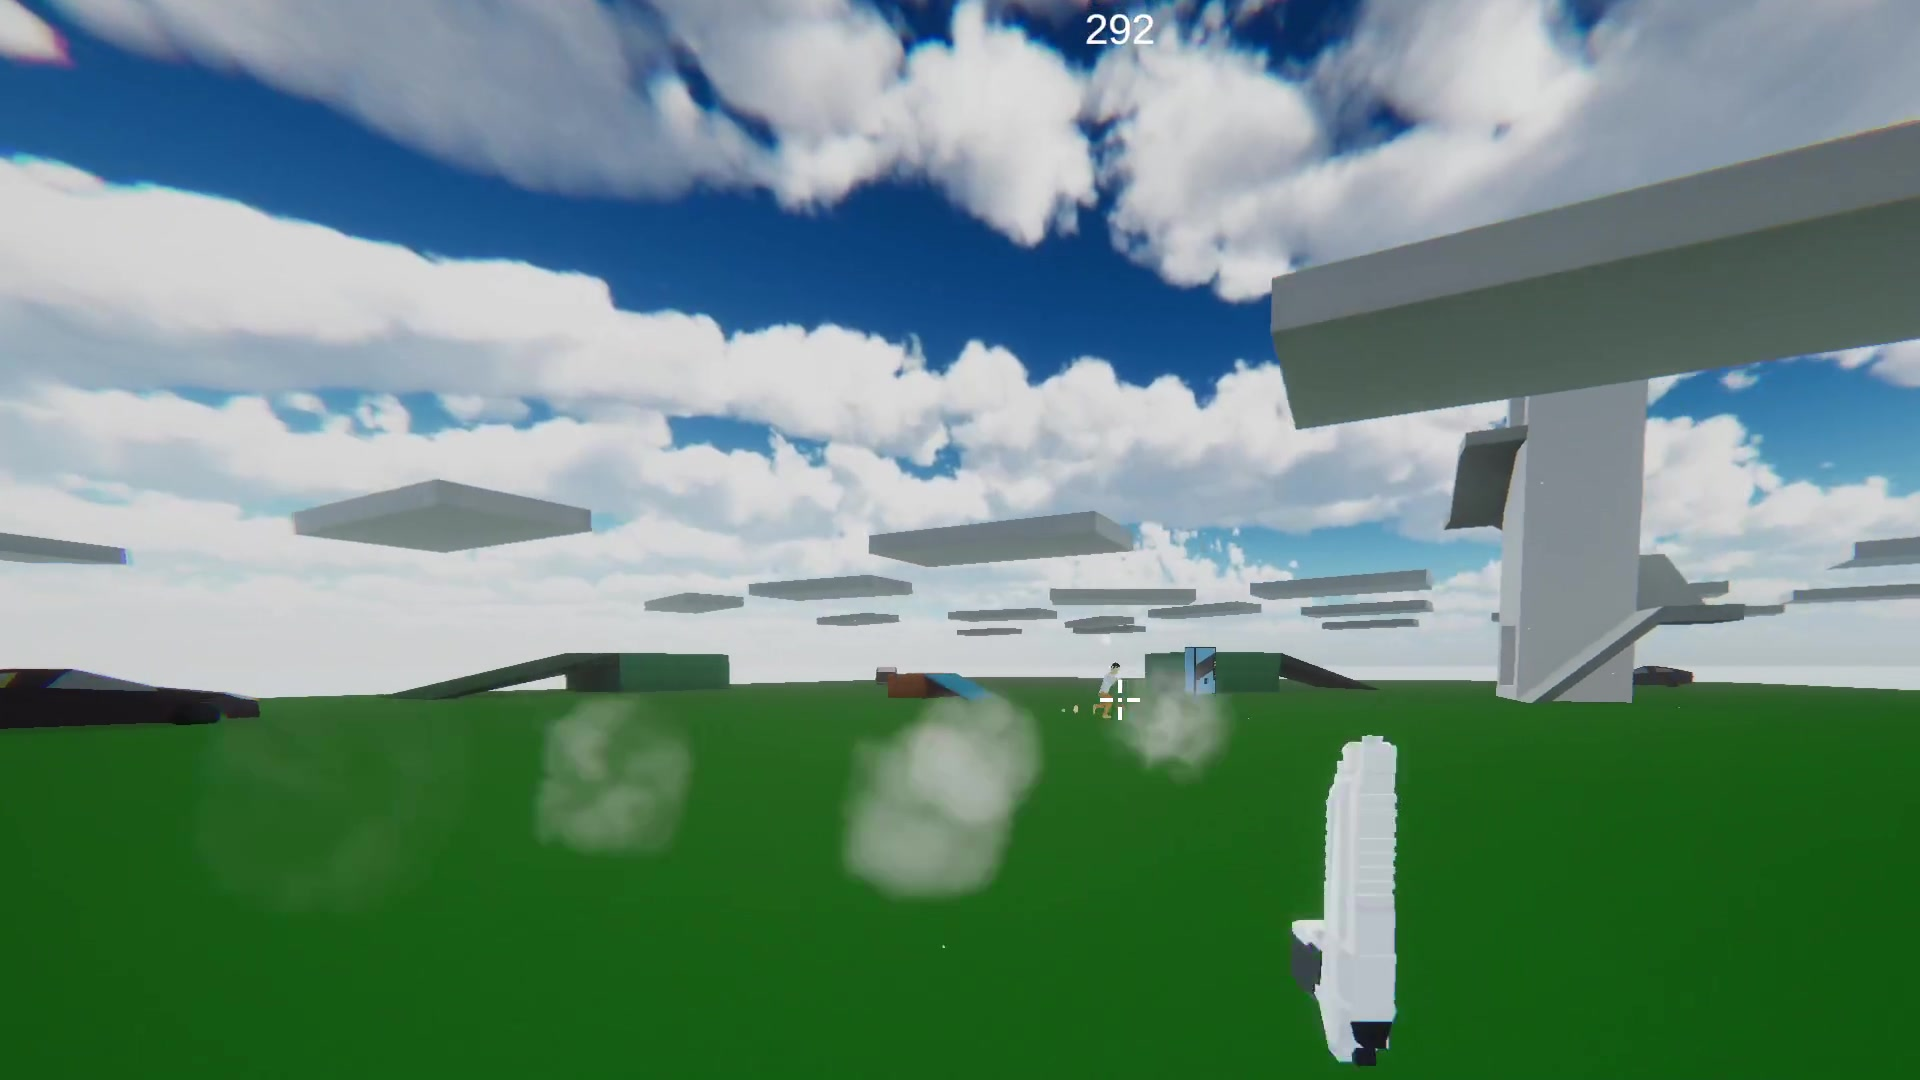human: (1102, 656, 1117, 721)
